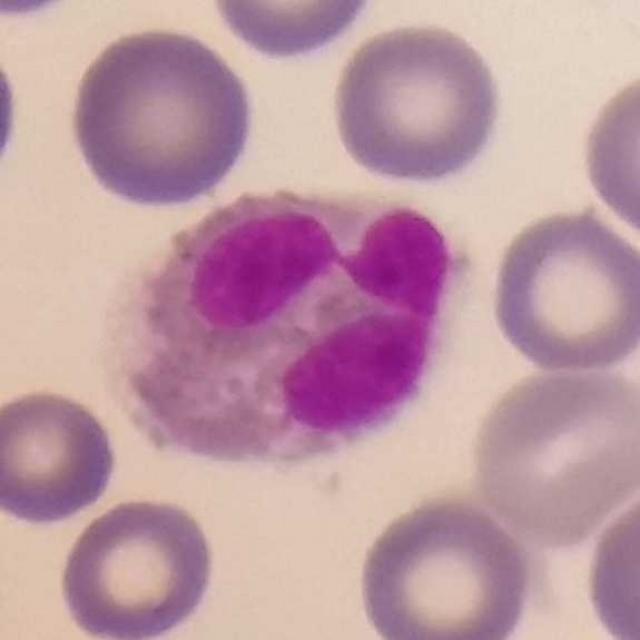Eosinophil: (104, 175, 458, 482)
RBC: (62, 21, 262, 213), (464, 357, 640, 548), (325, 15, 510, 192), (352, 491, 538, 640), (485, 203, 639, 376), (55, 493, 222, 640), (0, 381, 122, 528), (204, 0, 387, 66), (575, 64, 640, 247), (580, 479, 640, 640), (2, 56, 30, 181), (1, 0, 75, 24)
